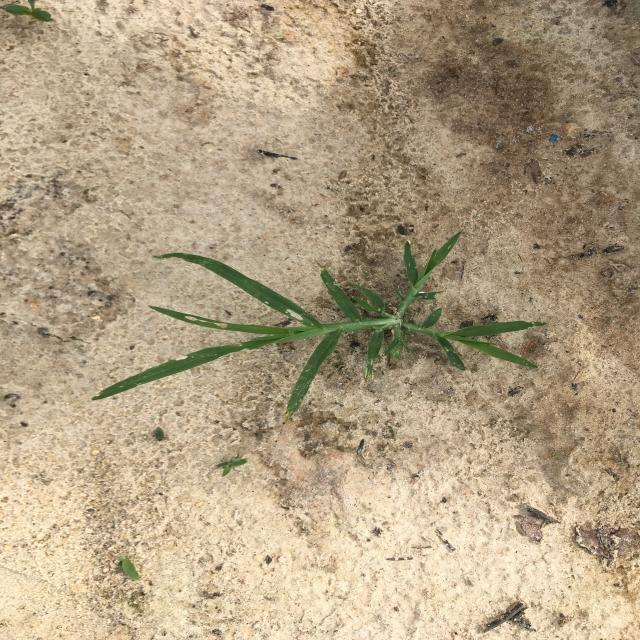Goosegrass: (90, 231, 546, 421)
